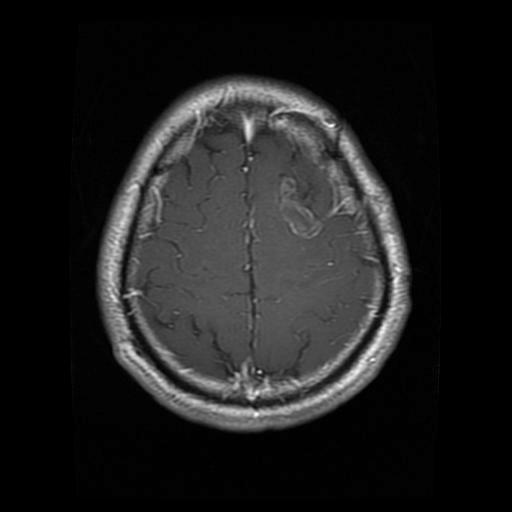Tumour-Glioma: (278, 162, 327, 245)
